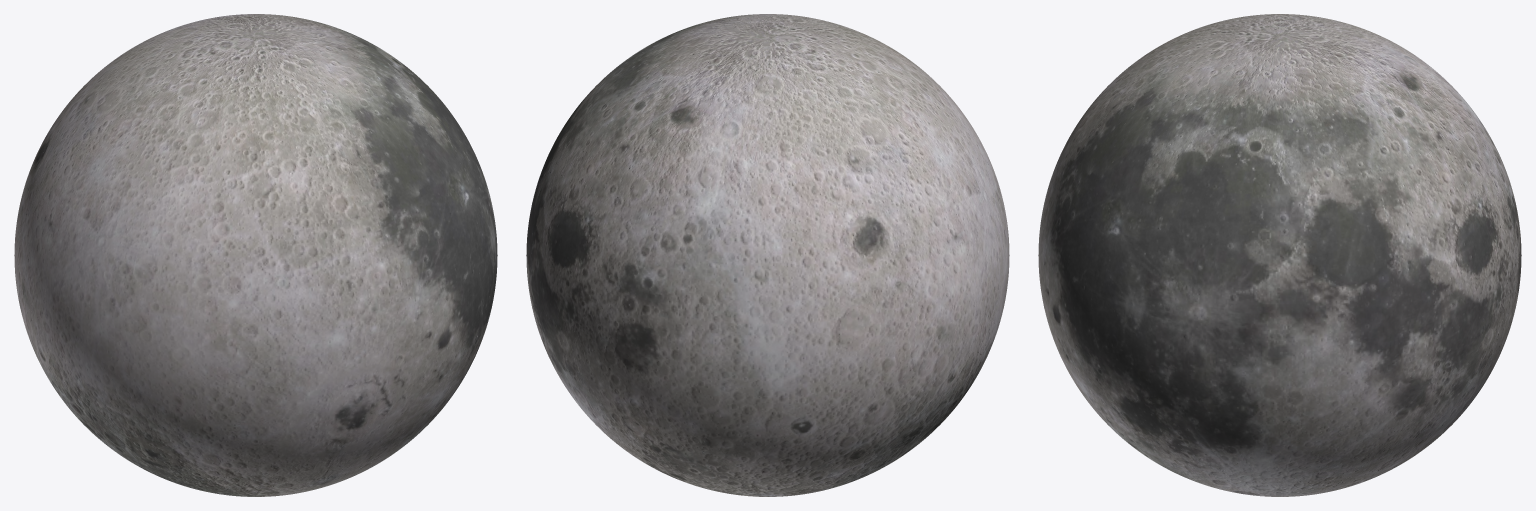
File: moon.glb
3 renders of one model, left to right at view 1: azimuth 30°, elevation 25°; view 2: azimuth 150°, elevation 25°; view 3: azimuth 270°, elevation 25°, orthographic.
Visible parts, largest first — view 1: Moon; view 2: Moon; view 3: Moon.
Boxes of the visible parts, bbox=[...] form: Moon: bbox=[14, 14, 497, 496]; Moon: bbox=[526, 14, 1009, 496]; Moon: bbox=[1038, 14, 1521, 496].
Size of the model in its own units: 2 by 2 by 2.
Materials: 1 (1 with a texture image).
